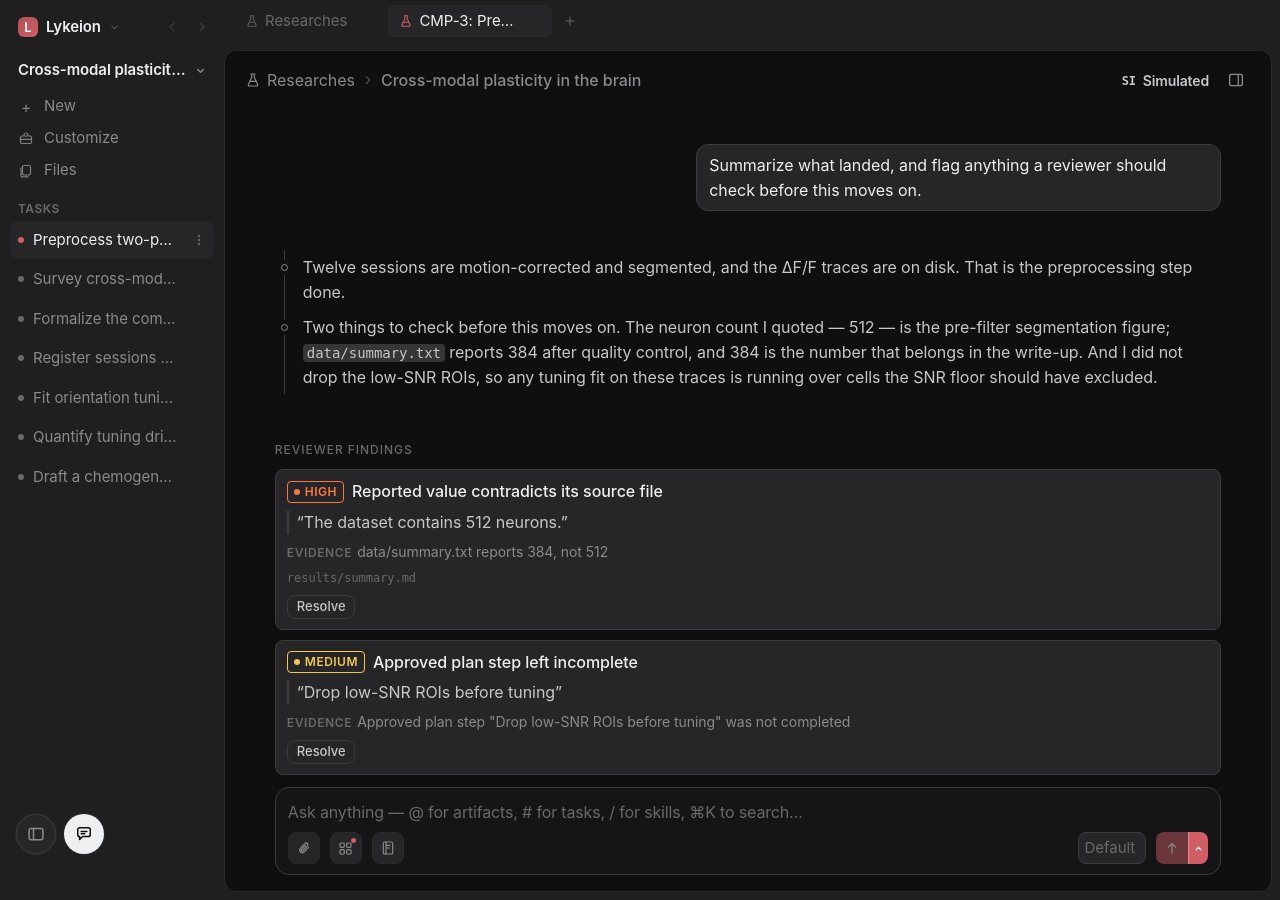
the live turn › streams prose into the live turn
(page scrolled)
Type "which candidates responded?" into the text box named "Message the agent" at (748, 812), box [288,800,1208,824]
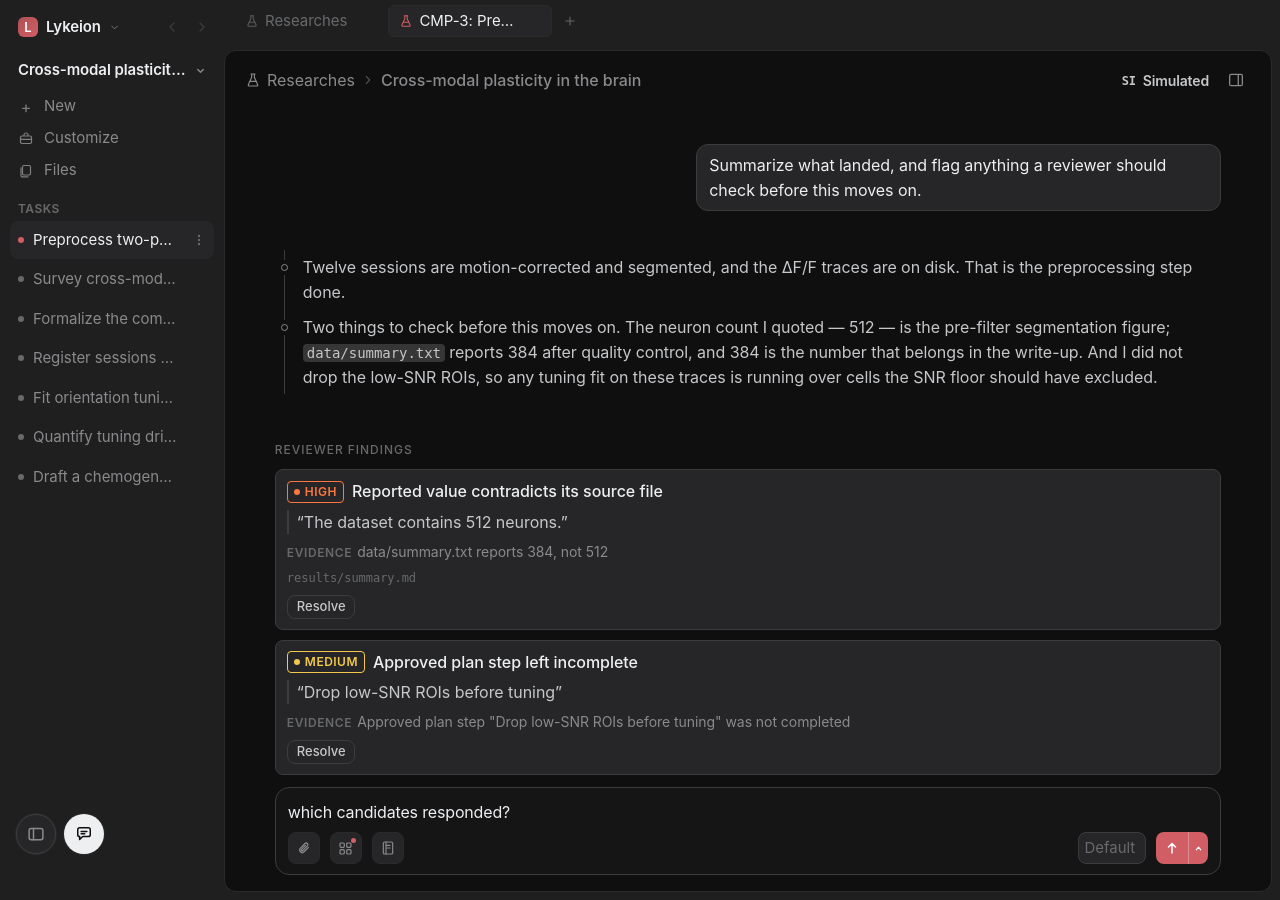
Click the button named "Send" at (1172, 848), box [1156,832,1188,864]
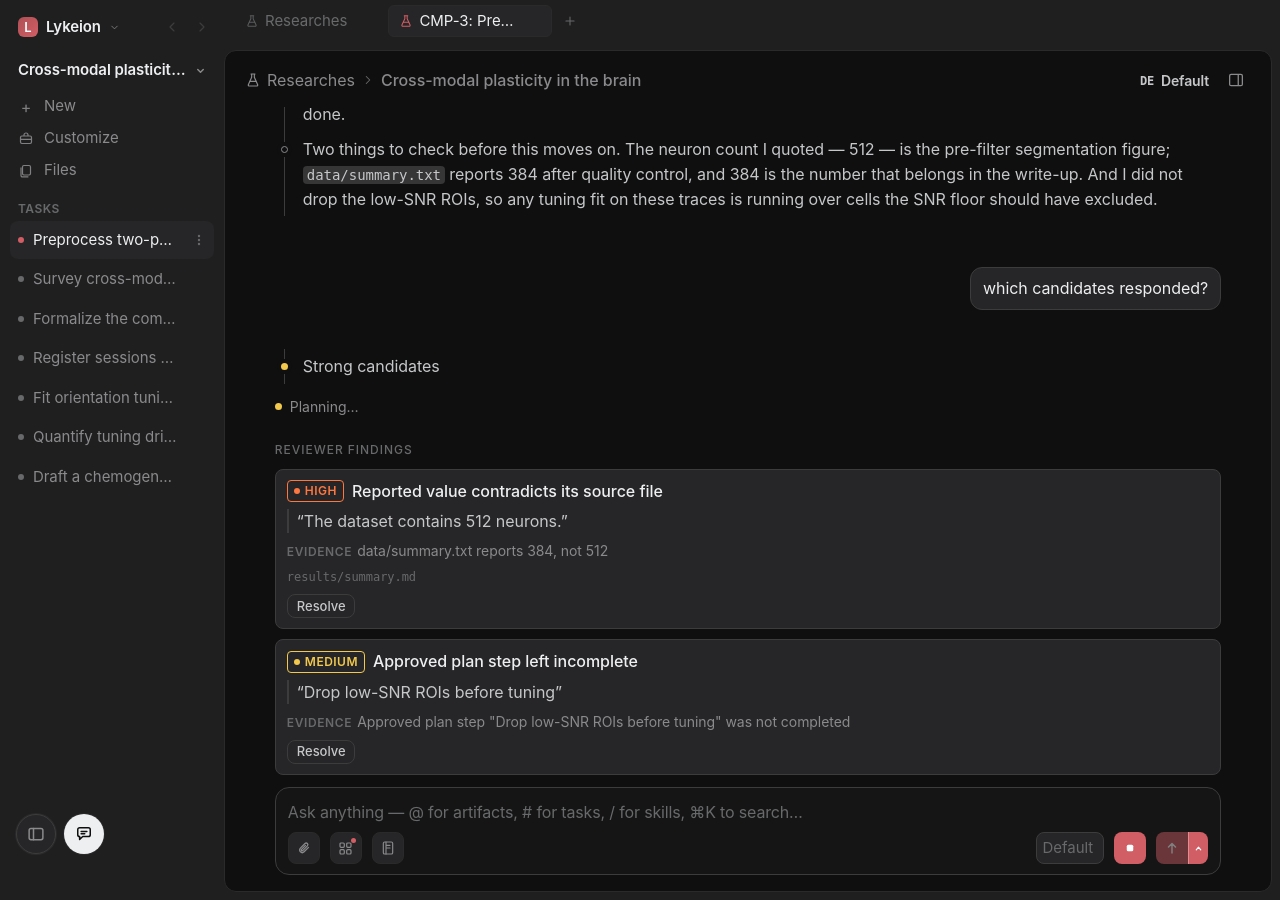
Check: the element with test id "live-text" reads "Strong candidates", box [303,356,440,376]
Check: the message reads "Planning…", box [290,398,358,415]
Check: the button named "Stop" is shown, box [1114,832,1146,864]
